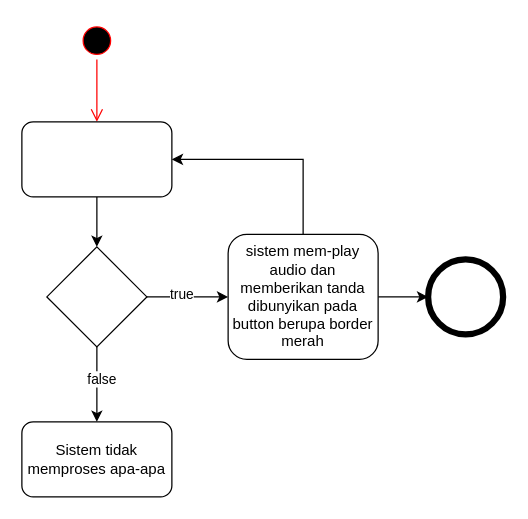
This 528x519 diagram has some shape labels left out. Here are the shapes that lost their labels. From the top down, the box of each, then its label:
(21, 121, 172, 197): User memberi input dari keyboard atau click button
(46, 246, 147, 347): inputan tersedia di sistem
